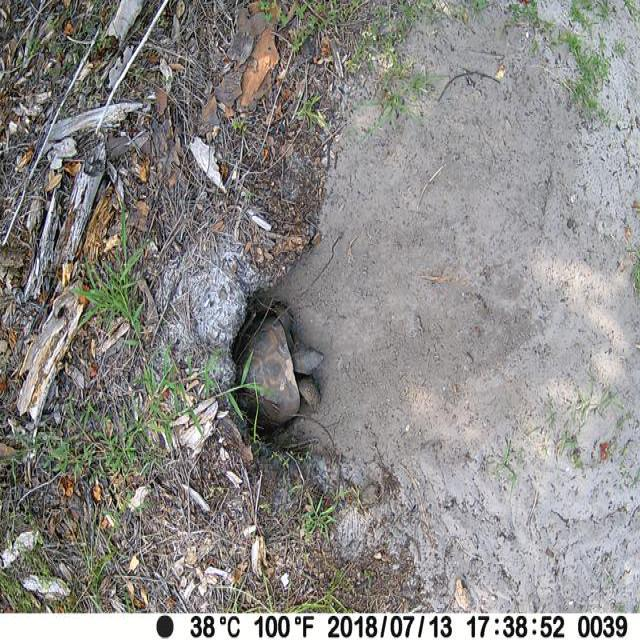tortoise: (234, 300, 323, 430)
